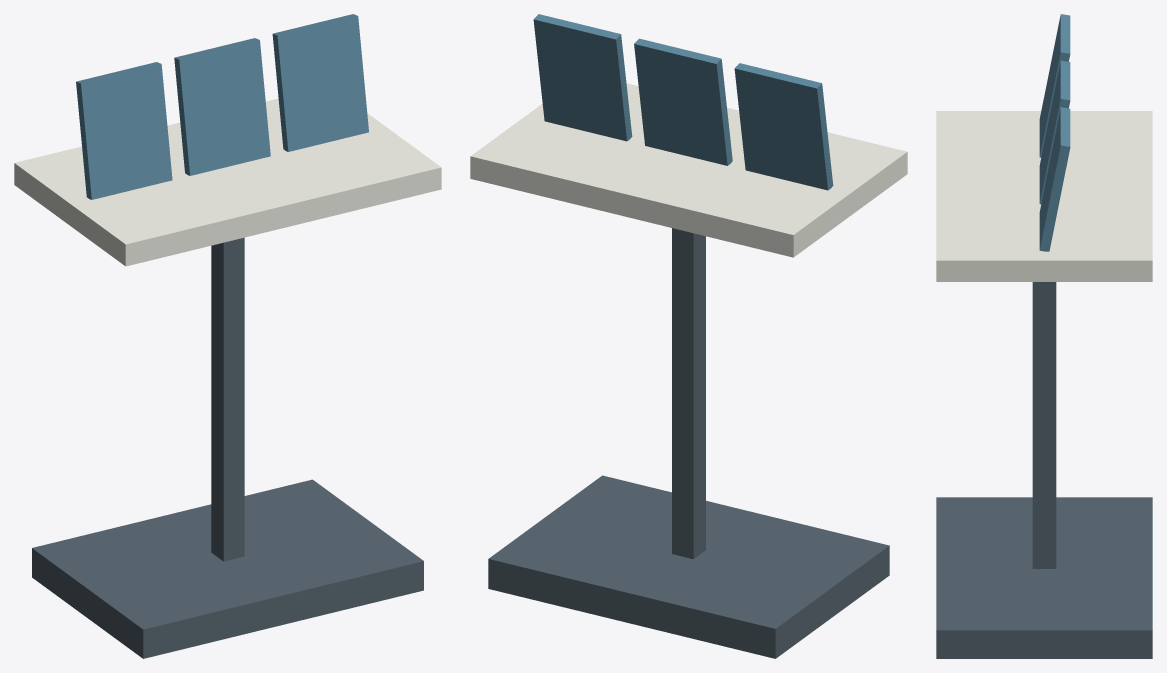
The model's file is american-football-stadium-kit-tablet-station-ec47a183.glb.
3 renders of one model, left to right at view 1: azimuth 30°, elevation 25°; view 2: azimuth 150°, elevation 25°; view 3: azimuth 270°, elevation 25°, orthographic. The views are drawn at different scales.
Visible parts, largest first — view 1: tablet-station; view 2: tablet-station; view 3: tablet-station.
Part boxes in pixels (x1,y1,x2,y2): tablet-station: [14, 14, 441, 658]; tablet-station: [470, 14, 907, 658]; tablet-station: [936, 14, 1152, 658].
Bounding box in the file's own units: 0.9 × 1.44 × 0.55.
